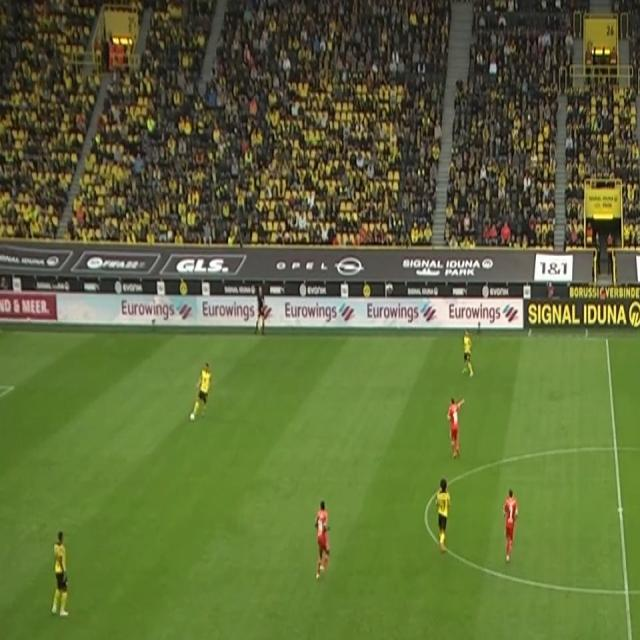ball: (188, 410, 196, 424)
